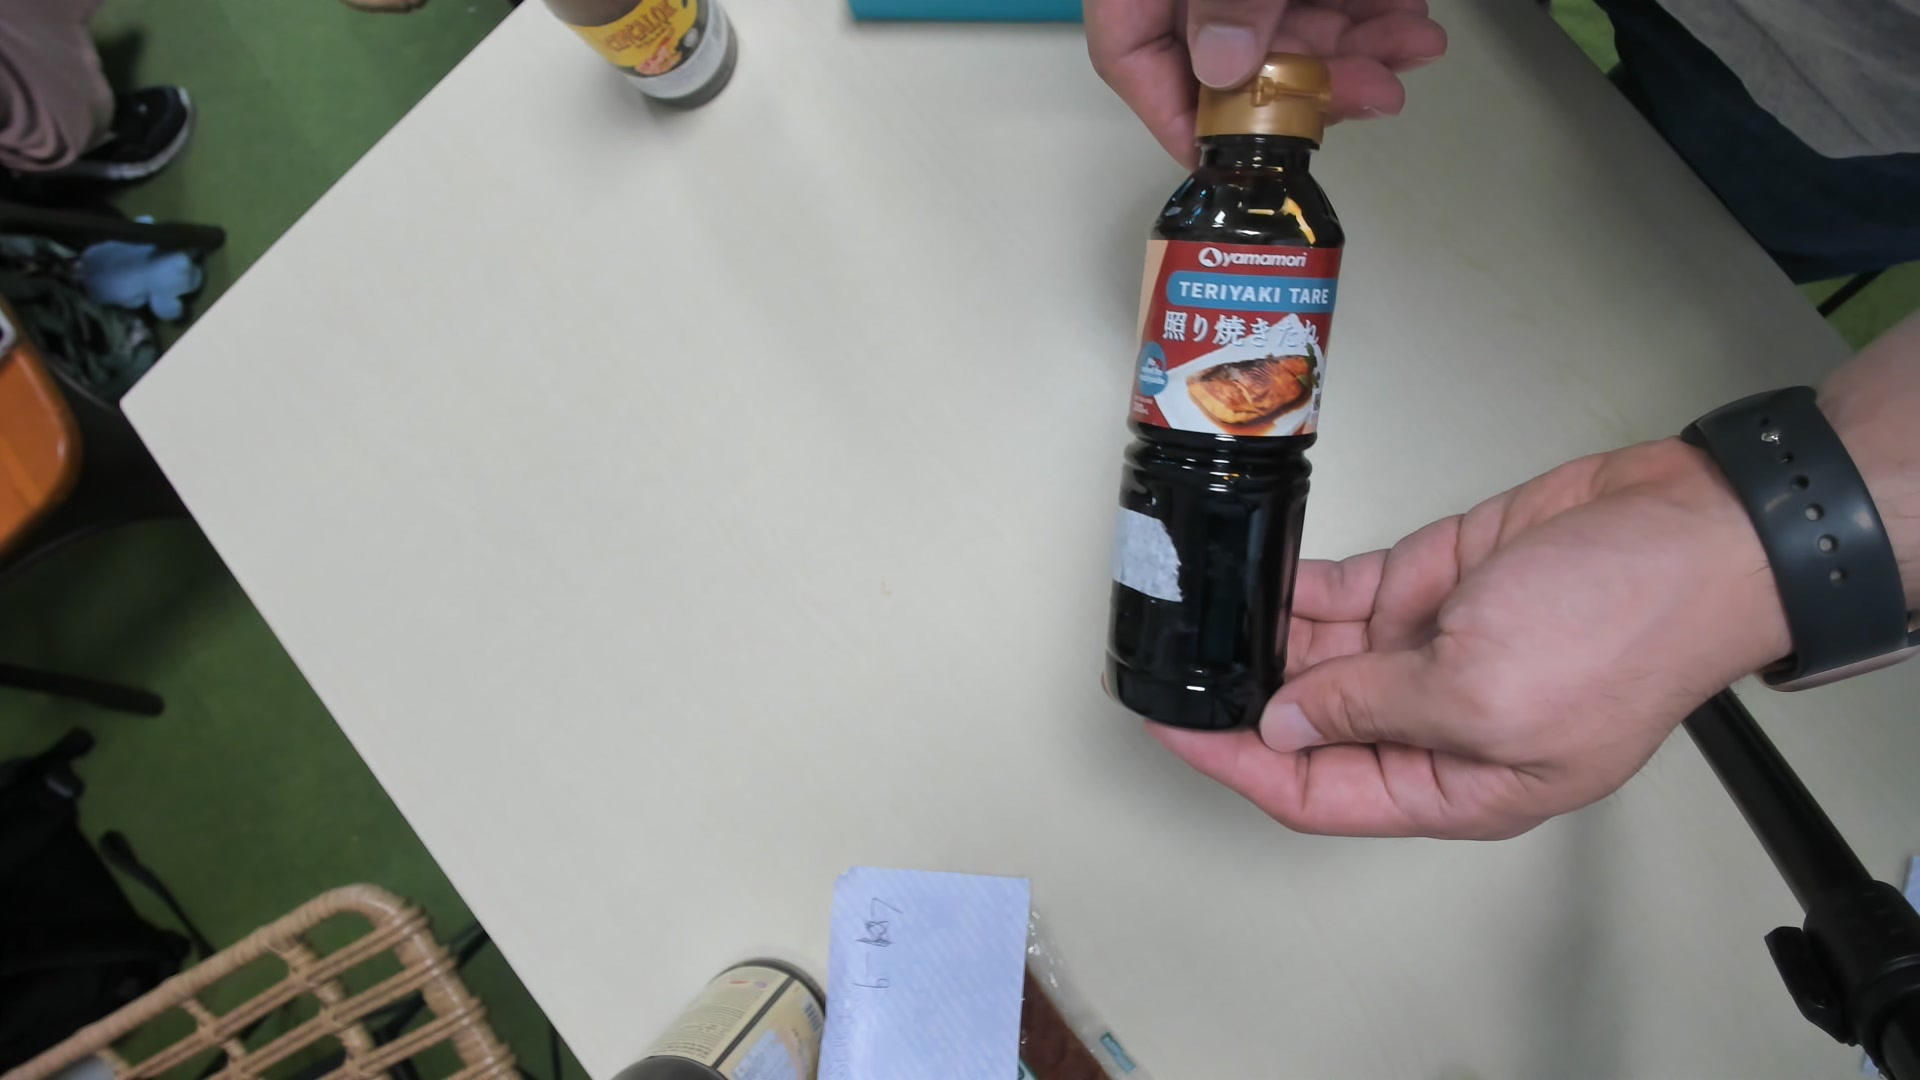OtherSauceDressingSoupbasePaste_200-299g_Halal_NonHealthy: (1092, 45, 1337, 746)
